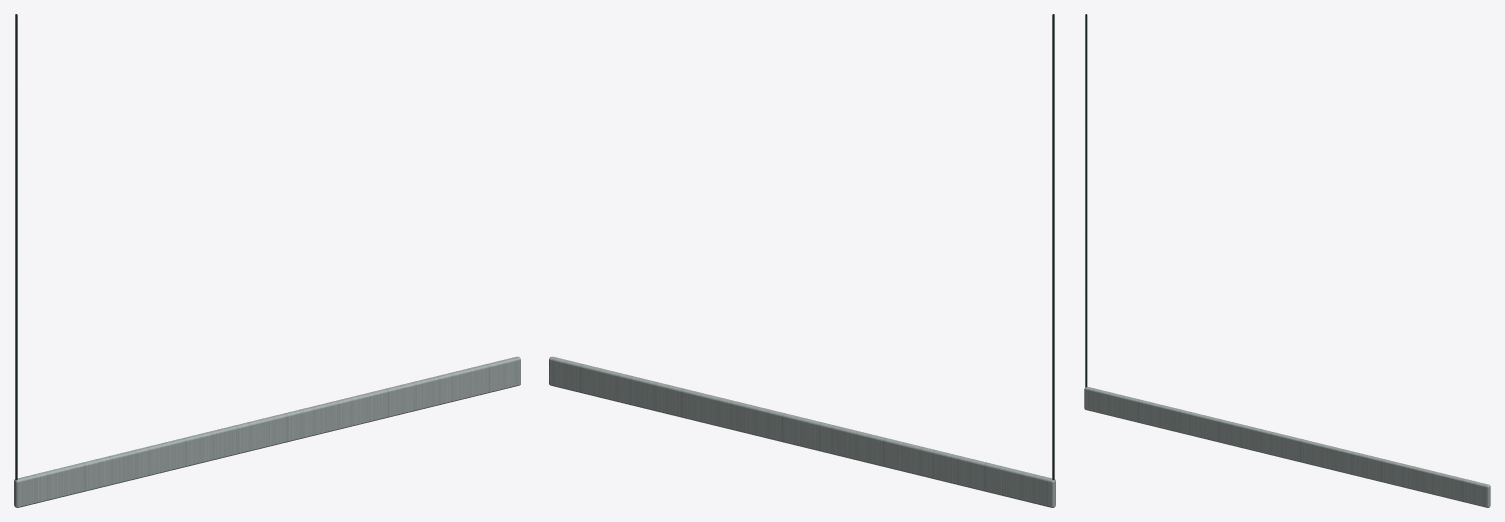
Rendered from detail-skirting-0.glb.
3 renders of one model, left to right at view 1: azimuth 30°, elevation 25°; view 2: azimuth 150°, elevation 25°; view 3: azimuth 330°, elevation 25°, orthographic. The views are drawn at different scales.
Visible parts, largest first — view 1: skirting, wall_joint; view 2: skirting, wall_joint; view 3: skirting, wall_joint.
Part boxes in pixels (<box>): skirting: <box>14,356,520,507</box>; wall_joint: <box>15,14,17,480</box>; skirting: <box>549,356,1055,507</box>; wall_joint: <box>1052,14,1054,480</box>; skirting: <box>1084,386,1490,507</box>; wall_joint: <box>1085,14,1087,387</box>.
Bounding box in the file's own units: 3 × 2.8 × 0.035.
2 materials, 2 textured.
